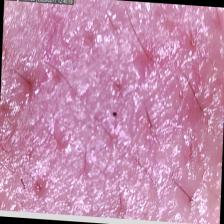Oily: (4, 6, 206, 209)
